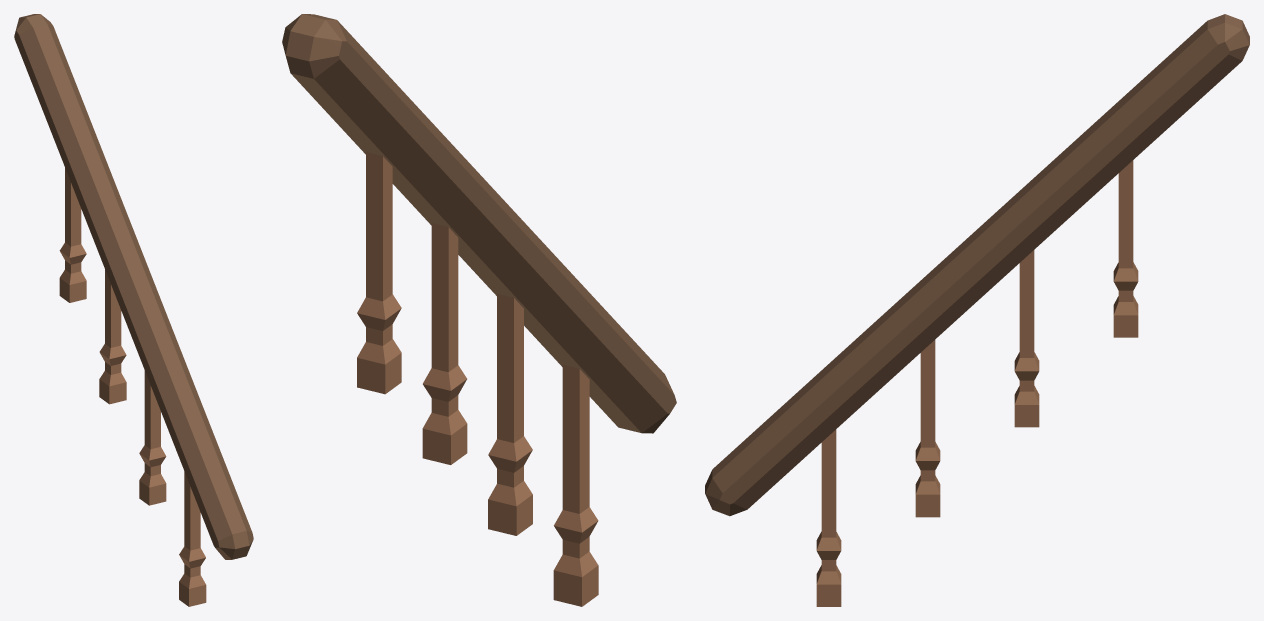
The model's file is Structure_Stairs_Railing_Rising_Straight.obj.
3 renders of one model, left to right at view 1: azimuth 30°, elevation 25°; view 2: azimuth 150°, elevation 25°; view 3: azimuth 270°, elevation 25°, orthographic. The views are drawn at different scales.
Visible parts, largest first — view 1: object1; view 2: object1; view 3: object1.
Part boxes in pixels (x1,y1,x2,y2): object1: [14, 14, 253, 606]; object1: [282, 14, 676, 606]; object1: [705, 14, 1249, 606].
Bounding box in the file's own units: 0.1 × 1.3 × 1.1.
